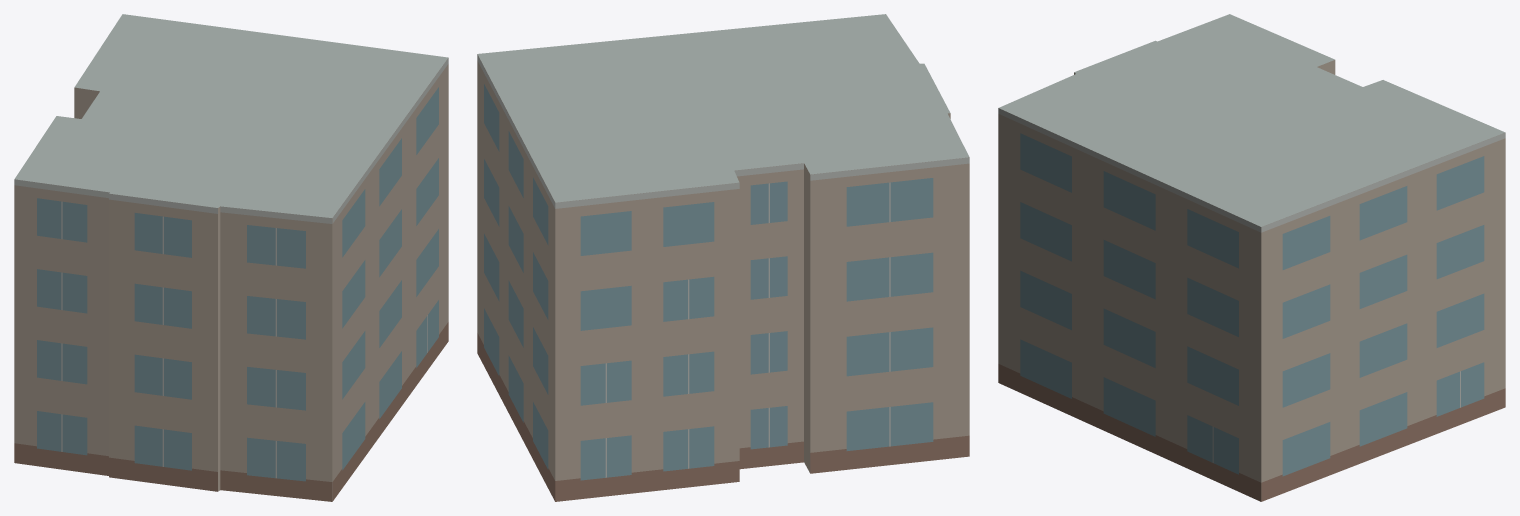
Rendered from survey-upis-32886747.glb.
3 views of the same model, side by side, from view 1: azimuth 30°, elevation 25°; view 2: azimuth 150°, elevation 25°; view 3: azimuth 270°, elevation 25° (orthographic). The views are drawn at different scales.
Visible parts, largest first — view 1: survey-upis-32886747.tmp; view 2: survey-upis-32886747.tmp; view 3: survey-upis-32886747.tmp.
Part boxes in pixels (box(x1,y1,x2,y2)): survey-upis-32886747.tmp: box(14, 14, 448, 501); survey-upis-32886747.tmp: box(477, 14, 969, 501); survey-upis-32886747.tmp: box(998, 14, 1505, 501).
Bounding box in the file's own units: 19.45 × 11.7 × 19.57.
